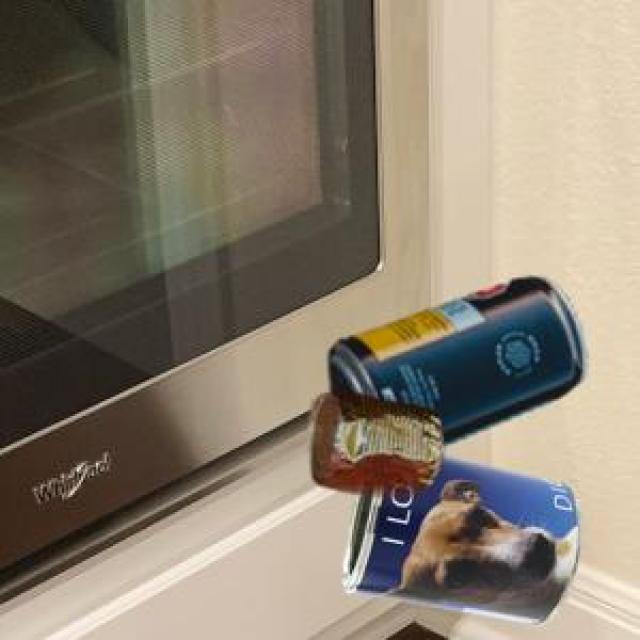logam: (325, 274, 583, 443), (340, 451, 579, 622), (306, 389, 441, 487)
